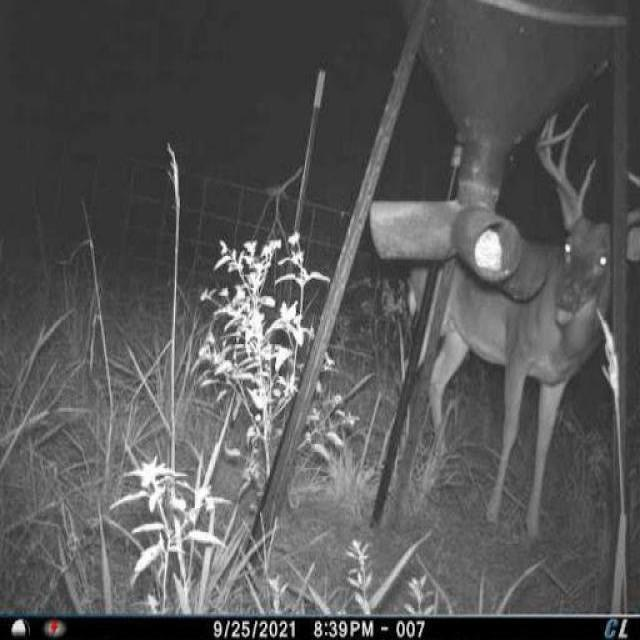deer: (395, 99, 640, 546)
